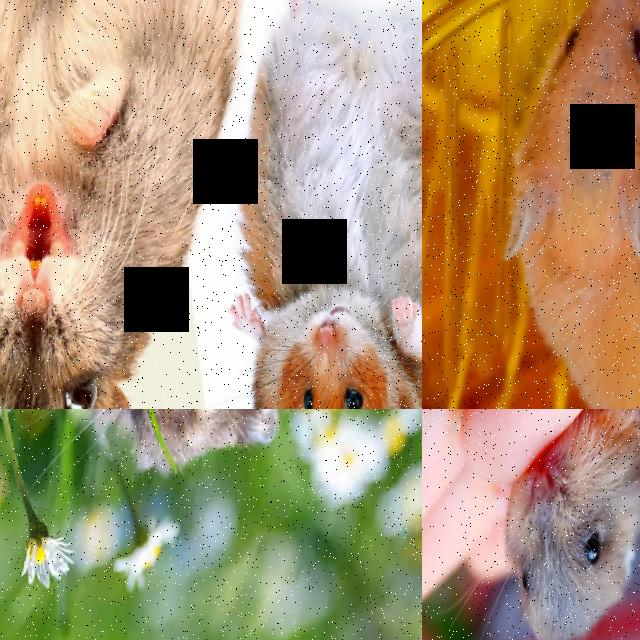hamster: (0, 0, 257, 409), (208, 0, 422, 409), (486, 0, 640, 409), (493, 409, 640, 640), (48, 409, 371, 492)
